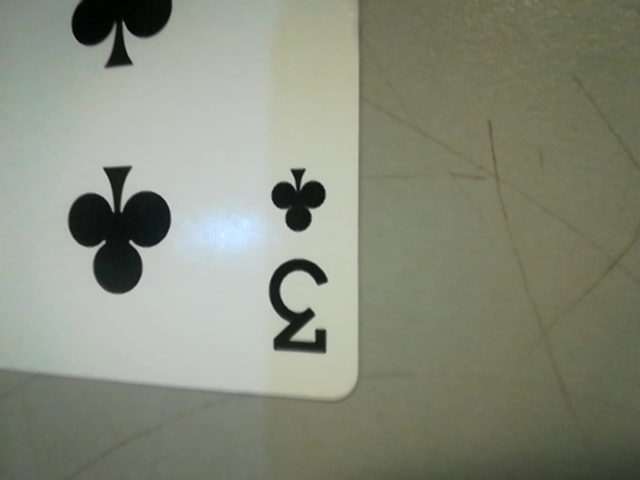mh 3: (257, 154, 349, 373)
